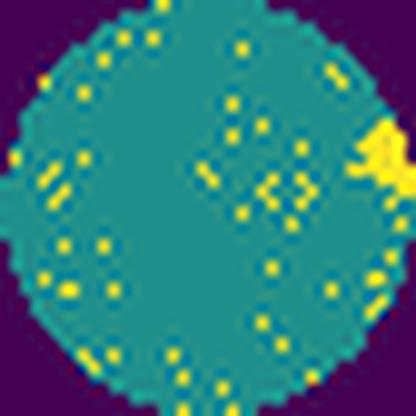Edge-Loc: (348, 111, 416, 207)
